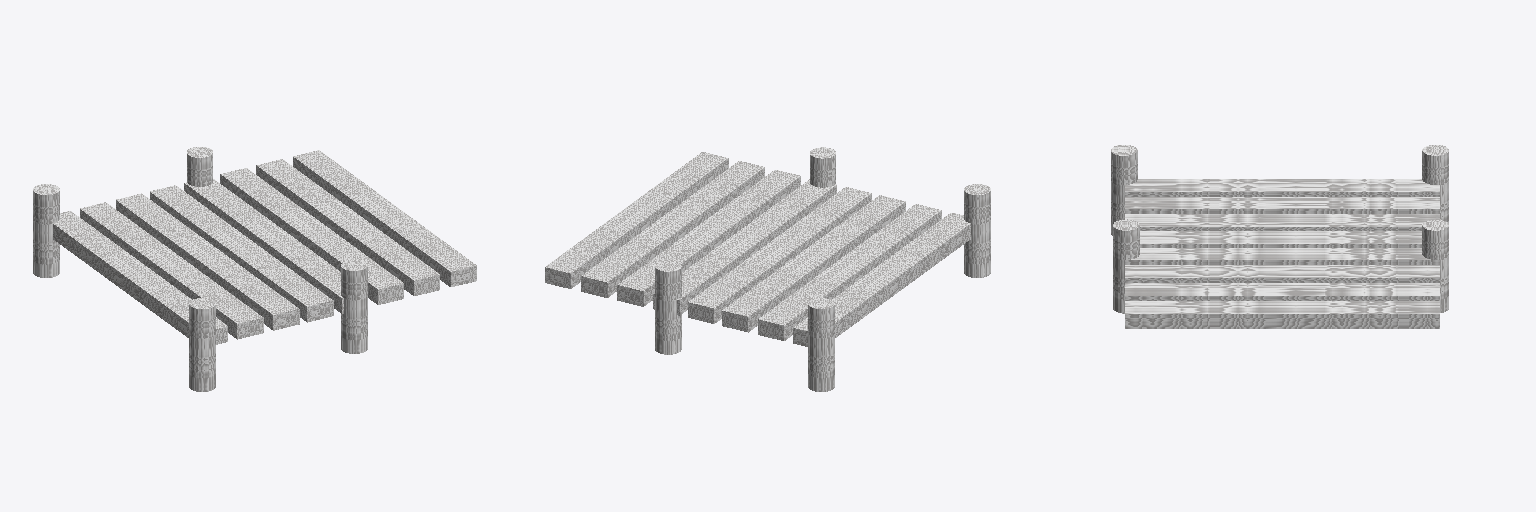
3 views of the same model, side by side, from view 1: azimuth 30°, elevation 25°; view 2: azimuth 150°, elevation 25°; view 3: azimuth 270°, elevation 25° (orthographic).
Visible parts, largest first — view 1: Box008, Box007, Box003, Box004, Box001, Box002, Box006, Box005, Cylinder001, Cylinder004, Cylinder002, Cylinder003; view 2: Box008, Box007, Box003, Box001, Box004, Box002, Box006, Box005, Cylinder002, Cylinder003, Cylinder001, Cylinder004; view 3: Box008, Box006, Box007, Box001, Box002, Box003, Box005, Box004, Cylinder004, Cylinder001, Cylinder003, Cylinder002.
Boxes of the visible parts, x1=… form: Box008: x1=293, y1=150, x2=476, y2=286; Box007: x1=256, y1=159, x2=439, y2=295; Box003: x1=116, y1=193, x2=299, y2=330; Box004: x1=150, y1=185, x2=333, y2=322; Box001: x1=53, y1=211, x2=227, y2=344; Box002: x1=80, y1=202, x2=263, y2=339; Box006: x1=220, y1=168, x2=403, y2=304; Box005: x1=184, y1=179, x2=343, y2=313; Cylinder001: x1=189, y1=298, x2=215, y2=391; Cylinder004: x1=341, y1=260, x2=367, y2=353; Cylinder002: x1=33, y1=184, x2=59, y2=277; Cylinder003: x1=187, y1=147, x2=212, y2=186; Box008: x1=545, y1=152, x2=728, y2=288; Box007: x1=581, y1=161, x2=764, y2=297; Box003: x1=722, y1=195, x2=905, y2=332; Box001: x1=793, y1=213, x2=970, y2=346; Box004: x1=688, y1=187, x2=871, y2=323; Box002: x1=758, y1=204, x2=941, y2=340; Box006: x1=617, y1=170, x2=800, y2=306; Box005: x1=653, y1=179, x2=836, y2=315; Cylinder002: x1=808, y1=298, x2=834, y2=391; Cylinder003: x1=655, y1=260, x2=681, y2=354; Cylinder001: x1=964, y1=184, x2=990, y2=277; Cylinder004: x1=810, y1=147, x2=835, y2=187; Box008: x1=1125, y1=301, x2=1439, y2=328; Box006: x1=1125, y1=265, x2=1439, y2=282; Box007: x1=1125, y1=283, x2=1439, y2=300; Box001: x1=1125, y1=179, x2=1439, y2=196; Box002: x1=1125, y1=197, x2=1439, y2=213; Box003: x1=1125, y1=214, x2=1439, y2=230; Box005: x1=1125, y1=248, x2=1439, y2=264; Box004: x1=1140, y1=231, x2=1421, y2=247; Cylinder004: x1=1113, y1=219, x2=1139, y2=313; Cylinder001: x1=1111, y1=145, x2=1137, y2=235; Cylinder003: x1=1422, y1=219, x2=1448, y2=312; Cylinder002: x1=1422, y1=145, x2=1448, y2=222.
Size of the model in its own units: 68.45 by 18.95 by 69.93.
2 materials, 1 textured.